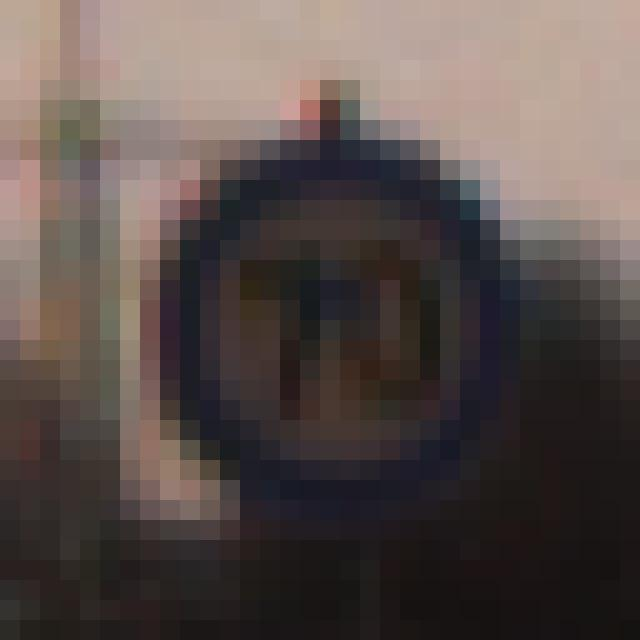SPEED LIMIT 70: (180, 133, 522, 487)
